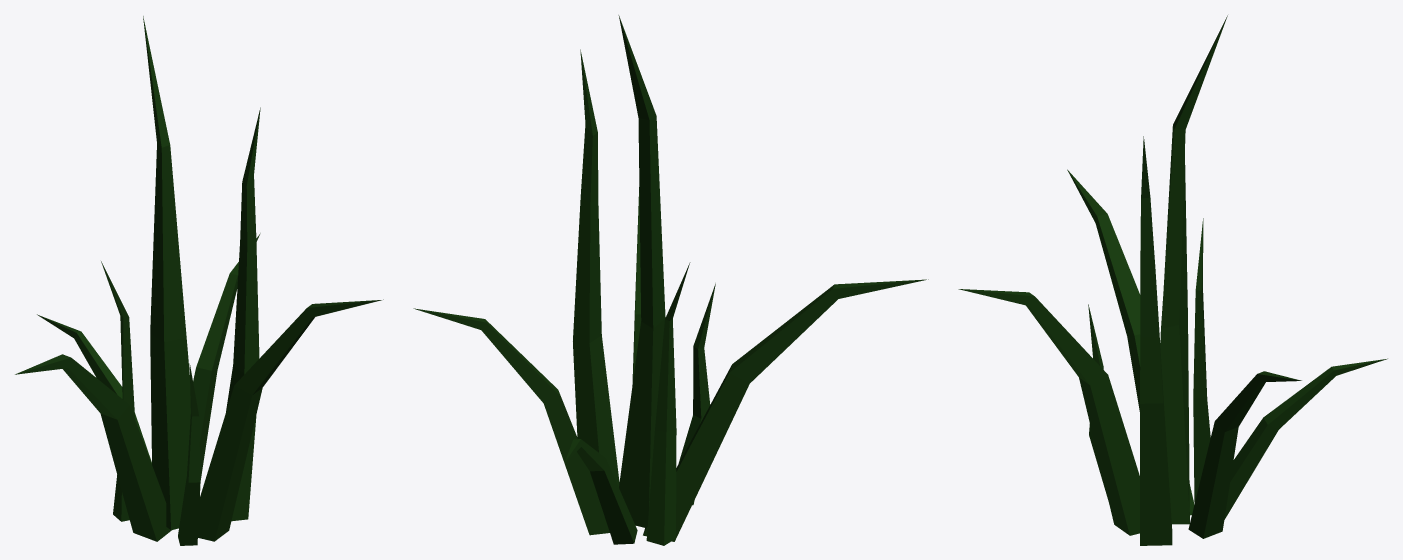
Rendered from grass_1.obj.
3 renders of one model, left to right at view 1: azimuth 30°, elevation 25°; view 2: azimuth 150°, elevation 25°; view 3: azimuth 270°, elevation 25°, orthographic. The views are drawn at different scales.
Parts seen in each view (by area): view 1: Grass1_Cube.051; view 2: Grass1_Cube.051; view 3: Grass1_Cube.051.
Boxes of the visible parts, <box> form: Grass1_Cube.051: <box>15,16,383,545</box>; Grass1_Cube.051: <box>413,15,928,545</box>; Grass1_Cube.051: <box>958,15,1387,545</box>.
Bounding box in the file's own units: 1.02 × 1.34 × 1.03.
